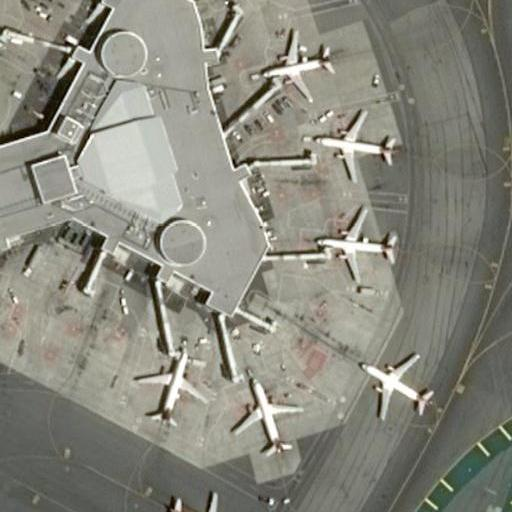Aircraft: (310, 103, 398, 184), (224, 372, 297, 453), (360, 339, 429, 423), (262, 25, 345, 94), (131, 342, 203, 421), (155, 487, 243, 512), (222, 0, 307, 5)
